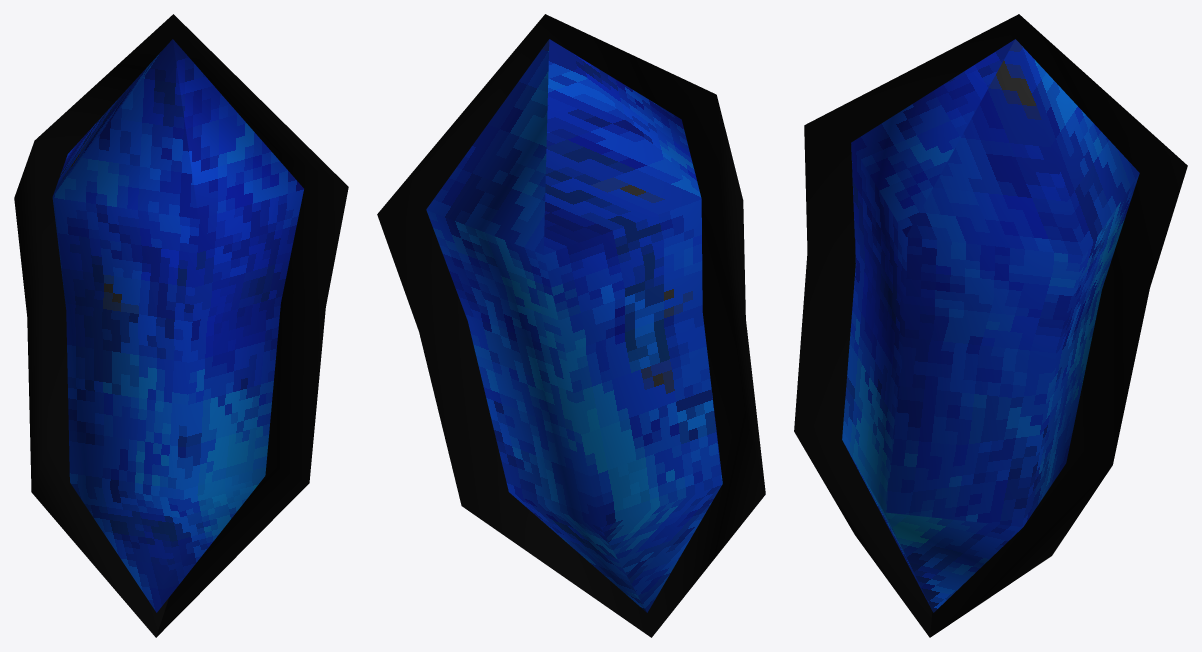
The model's file is OUBLIETTECRYSTAL1_PU.fbx.
3 views of the same model, side by side, from view 1: azimuth 30°, elevation 25°; view 2: azimuth 150°, elevation 25°; view 3: azimuth 270°, elevation 25° (orthographic). The views are drawn at different scales.
Visible parts, largest first — view 1: OUBLIETTECRYSTAL1_PU; view 2: OUBLIETTECRYSTAL1_PU; view 3: OUBLIETTECRYSTAL1_PU.
Part boxes in pixels (box(x1,y1,x2,y2)): OUBLIETTECRYSTAL1_PU: box(14, 14, 348, 637); OUBLIETTECRYSTAL1_PU: box(377, 14, 765, 637); OUBLIETTECRYSTAL1_PU: box(794, 14, 1187, 637).
Bounding box in the file's own units: 3016 × 5905 × 3217.
1 material, 1 textured.
